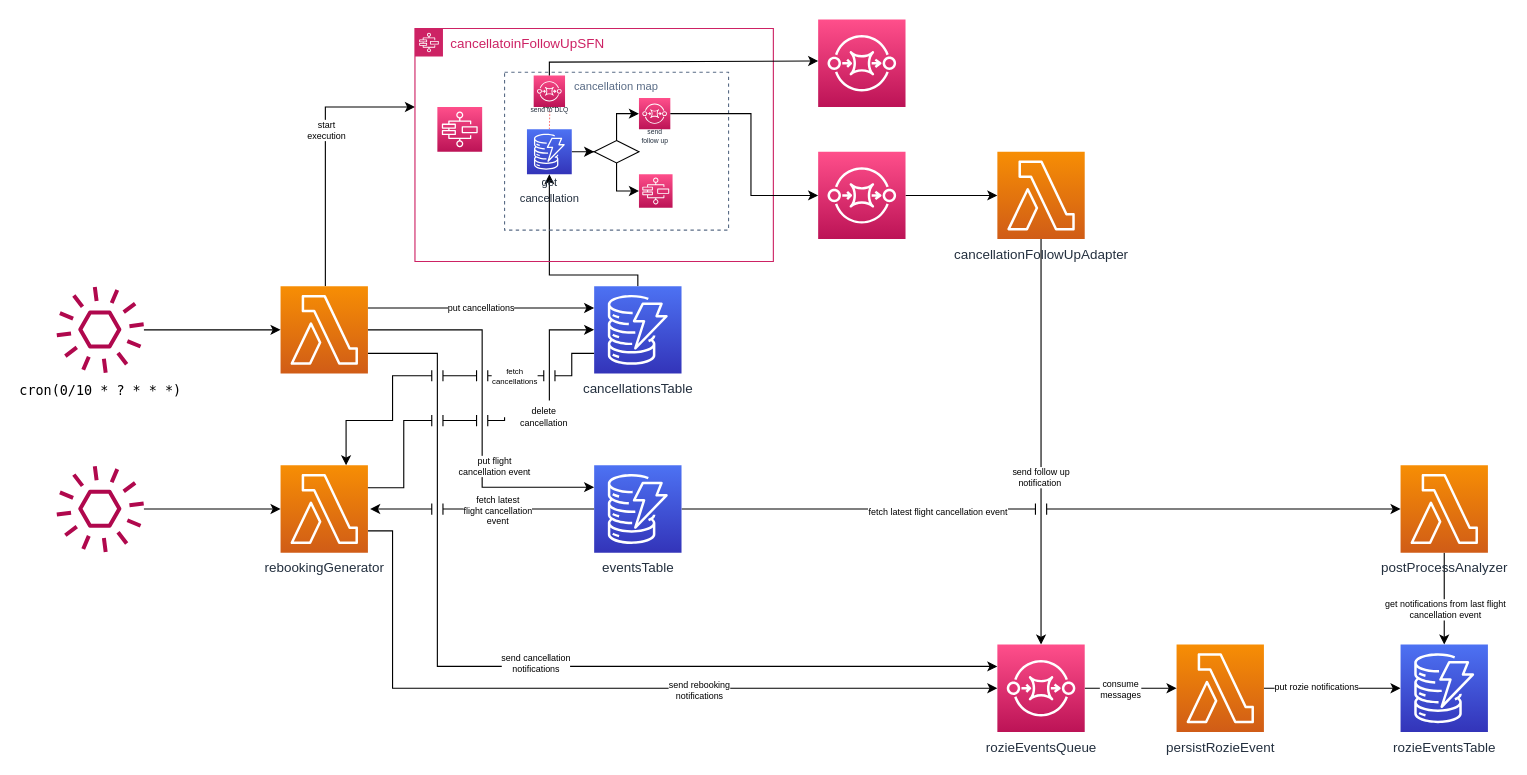
Image size: 1527x775. Some labels were removed from this diagram. Each missing label, with the centre of its shape:
"cancellationFollowUp Queue" goes at [861,195].
"cancellationGenerator" goes at [323,329].
"choice" goes at [616,151].
"cron(2/10 * ? * * *)" goes at [99,508].
"dynamic wait" goes at [459,129].
"skip follow up" goes at [655,190].
"stepFunctionDLQ" goes at [861,62].
